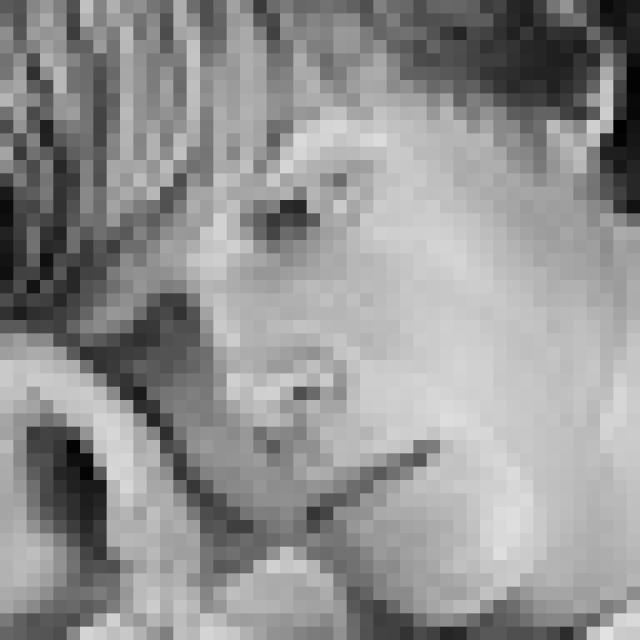sad: (80, 89, 460, 541)
